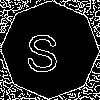S: (25, 25, 60, 73)
